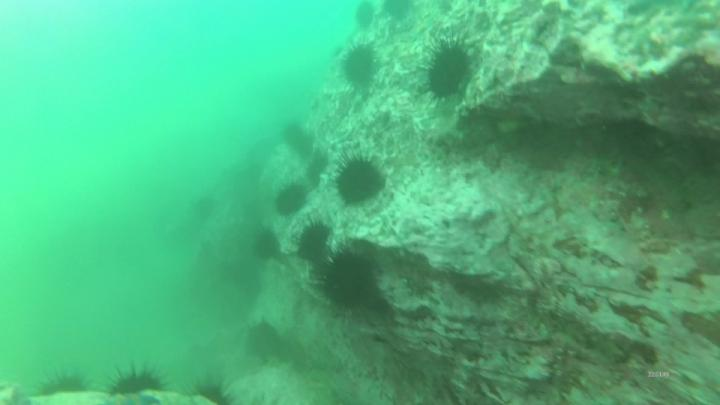echinus: (429, 44, 470, 99), (328, 252, 367, 302), (342, 163, 382, 205), (245, 324, 281, 361), (346, 48, 377, 87), (115, 374, 169, 392), (300, 227, 328, 261), (40, 372, 87, 392), (275, 186, 308, 214), (284, 128, 312, 153), (198, 383, 226, 403), (307, 158, 327, 182), (258, 234, 278, 258), (383, 1, 412, 17), (358, 3, 375, 29)
